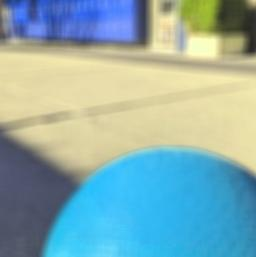algae: (32, 141, 256, 257)
